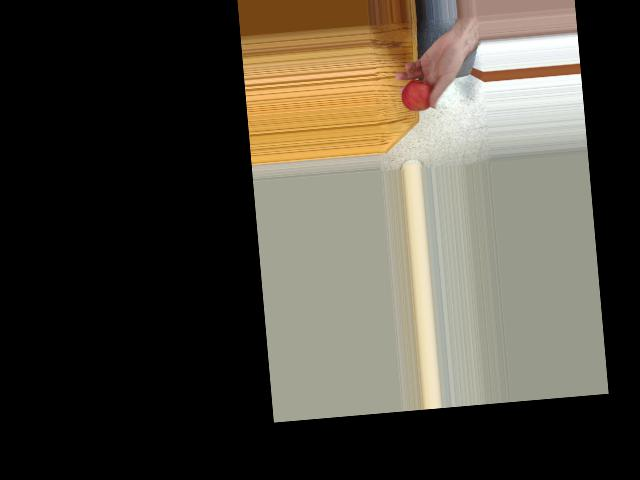apple: (399, 73, 438, 113)
